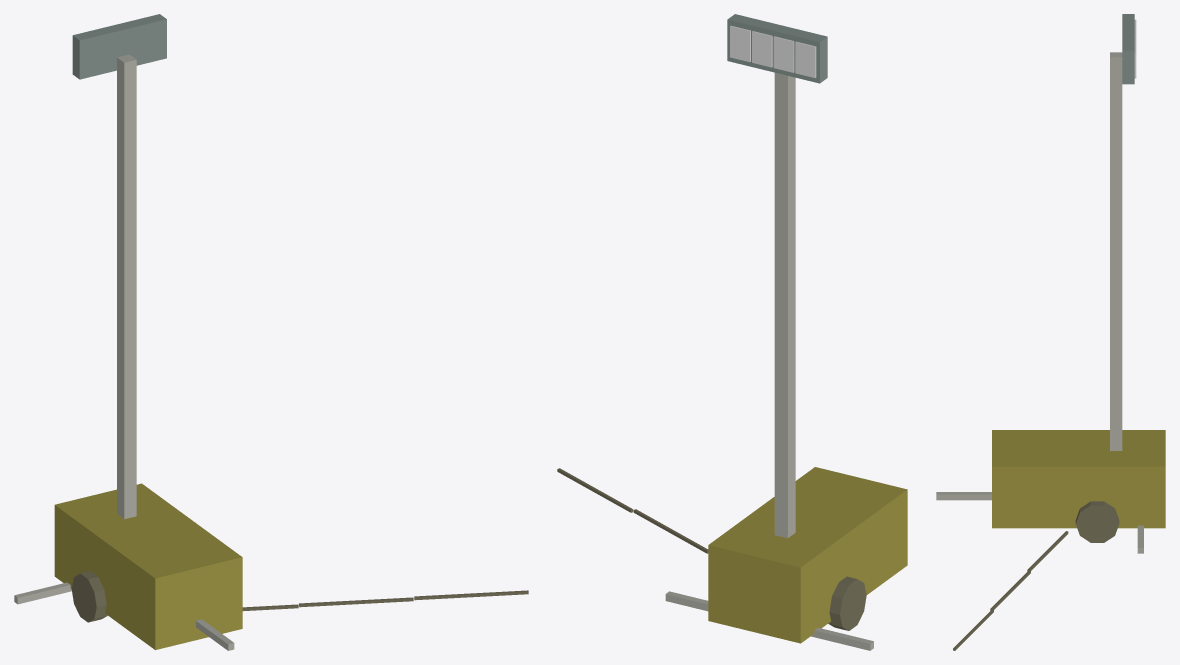
Rendered from SM_TorreLuz_v2_Cable_LOD0.fbx.
The picture shows the model from 3 angles, left to right: view 1: azimuth 30°, elevation 25°; view 2: azimuth 150°, elevation 25°; view 3: azimuth 270°, elevation 25°; orthographic projection. The views are drawn at different scales.
Visible parts, largest first — view 1: SM_ambiente_aerodromo_v17_LOD0; view 2: SM_ambiente_aerodromo_v17_LOD0; view 3: SM_ambiente_aerodromo_v17_LOD0.
Part boxes in pixels (x1,y1,x2,y2): SM_ambiente_aerodromo_v17_LOD0: (14, 14, 528, 650); SM_ambiente_aerodromo_v17_LOD0: (557, 14, 907, 650); SM_ambiente_aerodromo_v17_LOD0: (936, 14, 1165, 650).
Bounding box in the file's own units: 6.49 × 8.7 × 3.7.
